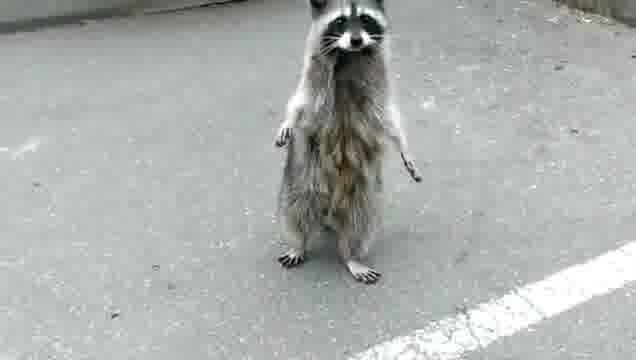raccoon: (271, 0, 426, 287)
